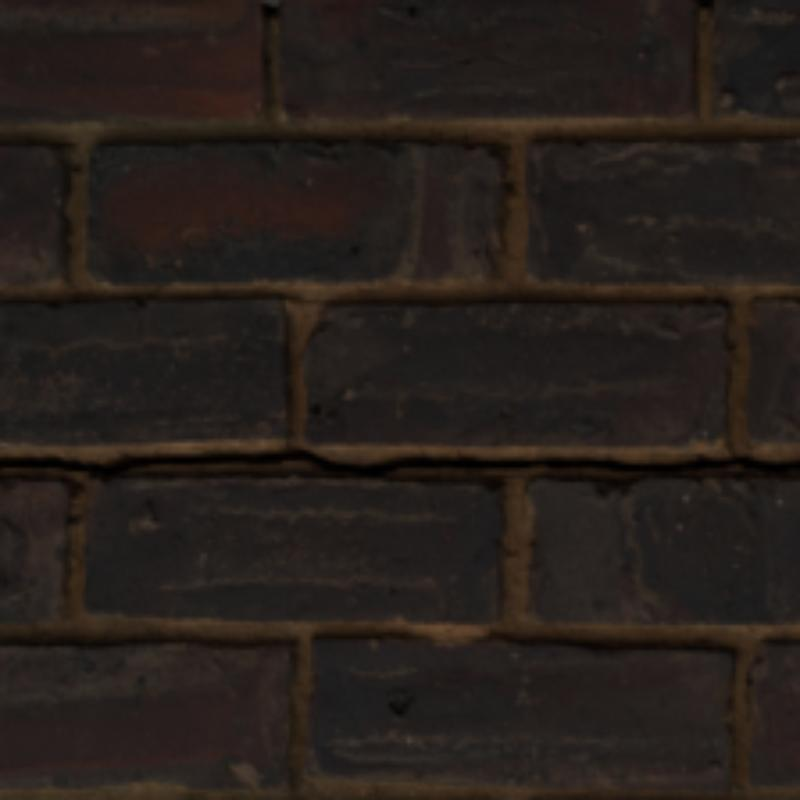crack: (0, 446, 796, 471)
